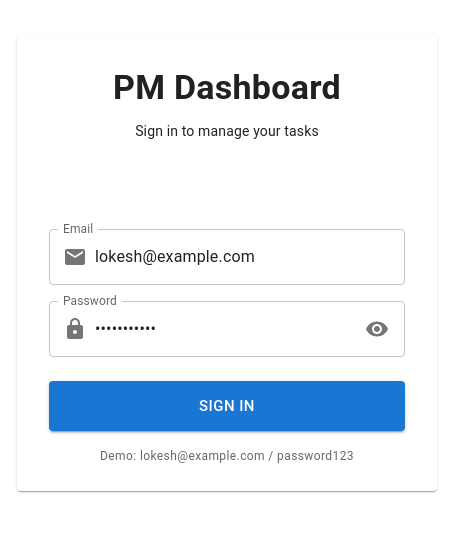
Test case: LoginPage › shows validation errors for empty fields
Clear the field labelled "Email" at point(250, 257), box x1=95 y1=229 x2=405 y2=285
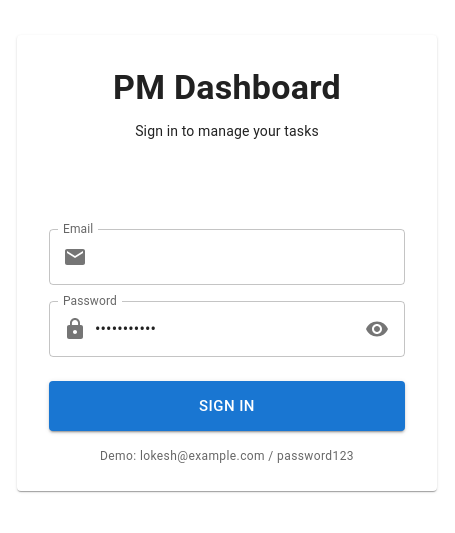
Clear the password field labelled "Password" at point(224, 329), box x1=95 y1=301 x2=352 y2=357
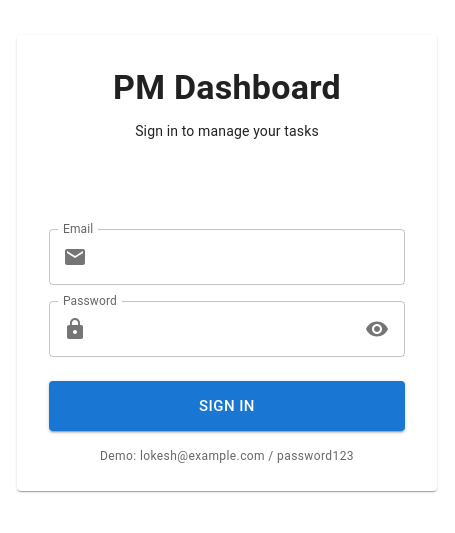
Click the button "Sign In" at point(227, 406), box x1=49 y1=381 x2=405 y2=431
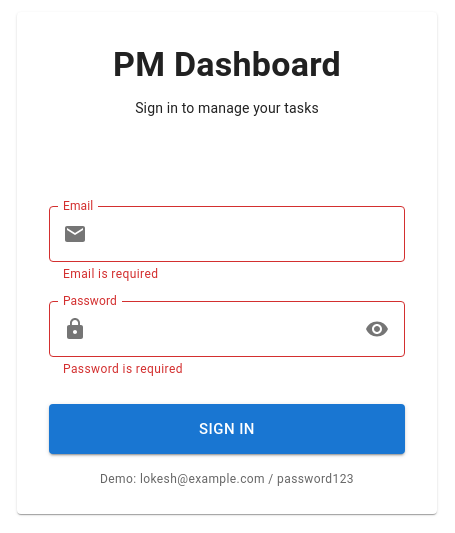
Expected: the text "Email is required" is shown, x1=63 y1=267 x2=158 y2=281
Expected: the text "Password is required" is shown, x1=63 y1=362 x2=183 y2=376
